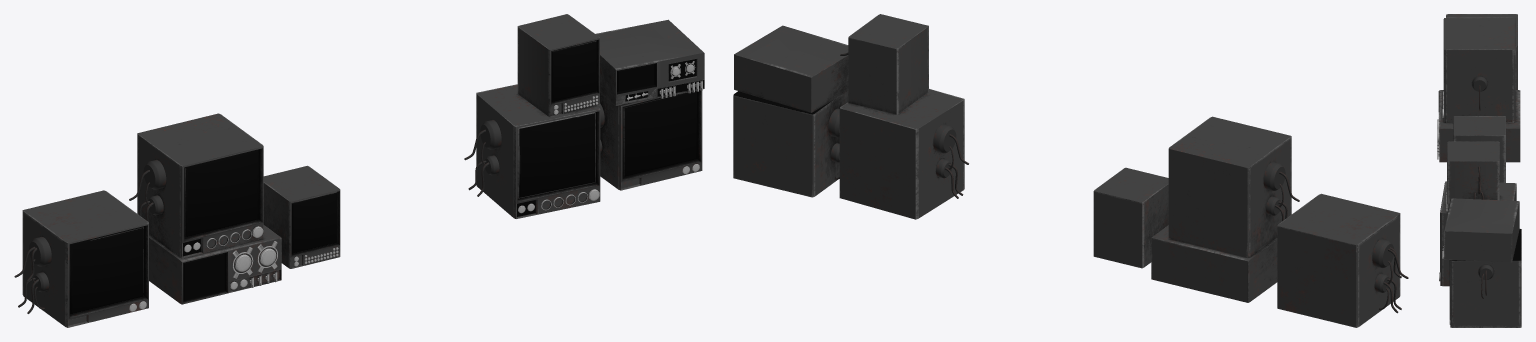
The model's file is monitors_fnaf_1.glb.
The picture shows the model from 3 angles, left to right: view 1: azimuth 30°, elevation 25°; view 2: azimuth 150°, elevation 25°; view 3: azimuth 270°, elevation 25°; orthographic projection. The views are drawn at different scales.
Visible parts, largest first — view 1: Cube.001, Cylinder.002; view 2: Cube.001, Cylinder.002; view 3: Cube.001, Cylinder.002.
Part boxes in pixels (x1,y1,x2,y2): Cube.001: (22, 14, 704, 327); Cylinder.002: (14, 61, 702, 313); Cube.001: (733, 14, 1400, 327); Cylinder.002: (828, 52, 1408, 313); Cube.001: (1438, 14, 1521, 327); Cylinder.002: (1437, 76, 1493, 324).
Size of the model in its own units: 1747 by 392 by 237.
4 materials, 4 textured.
